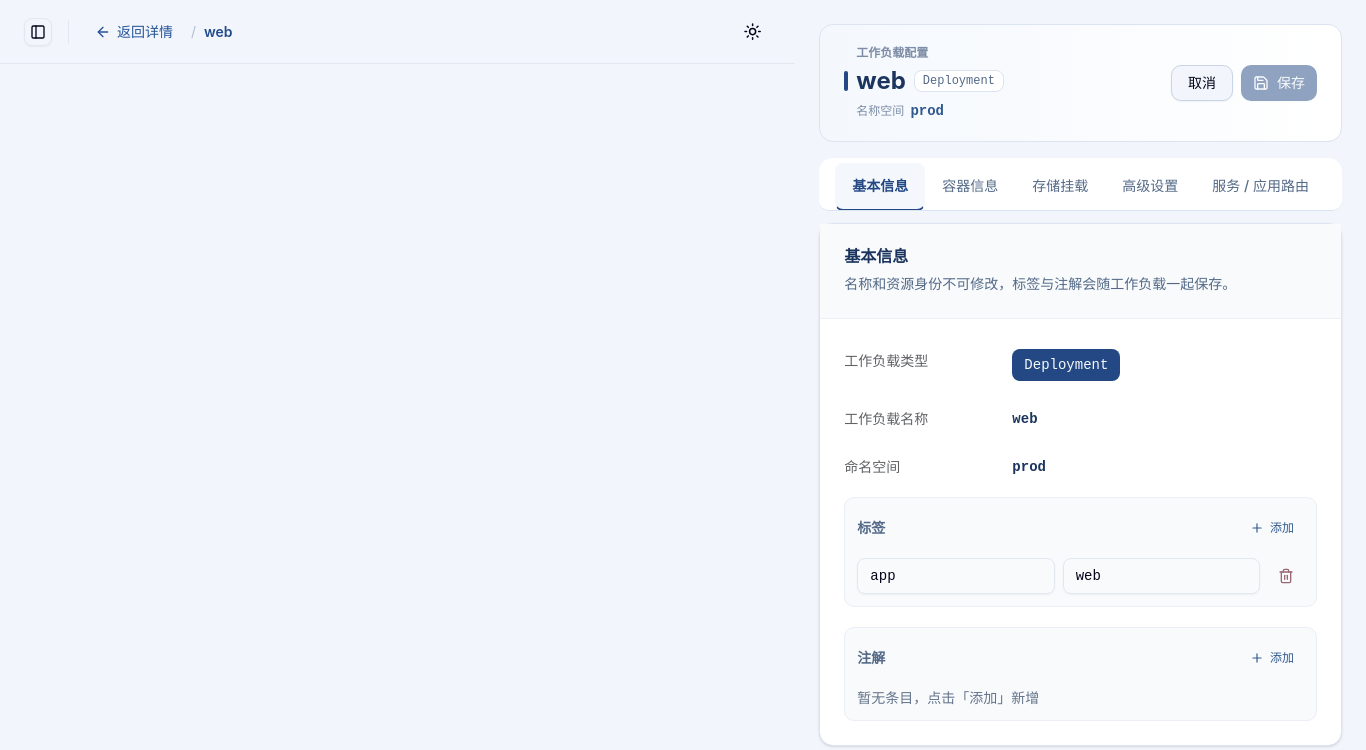
Test: WorkloadEditorPage › renders kind-specific advanced settings for Deployment
Click the tab "高级设置" at (1150,186), box [1105,162,1195,210]
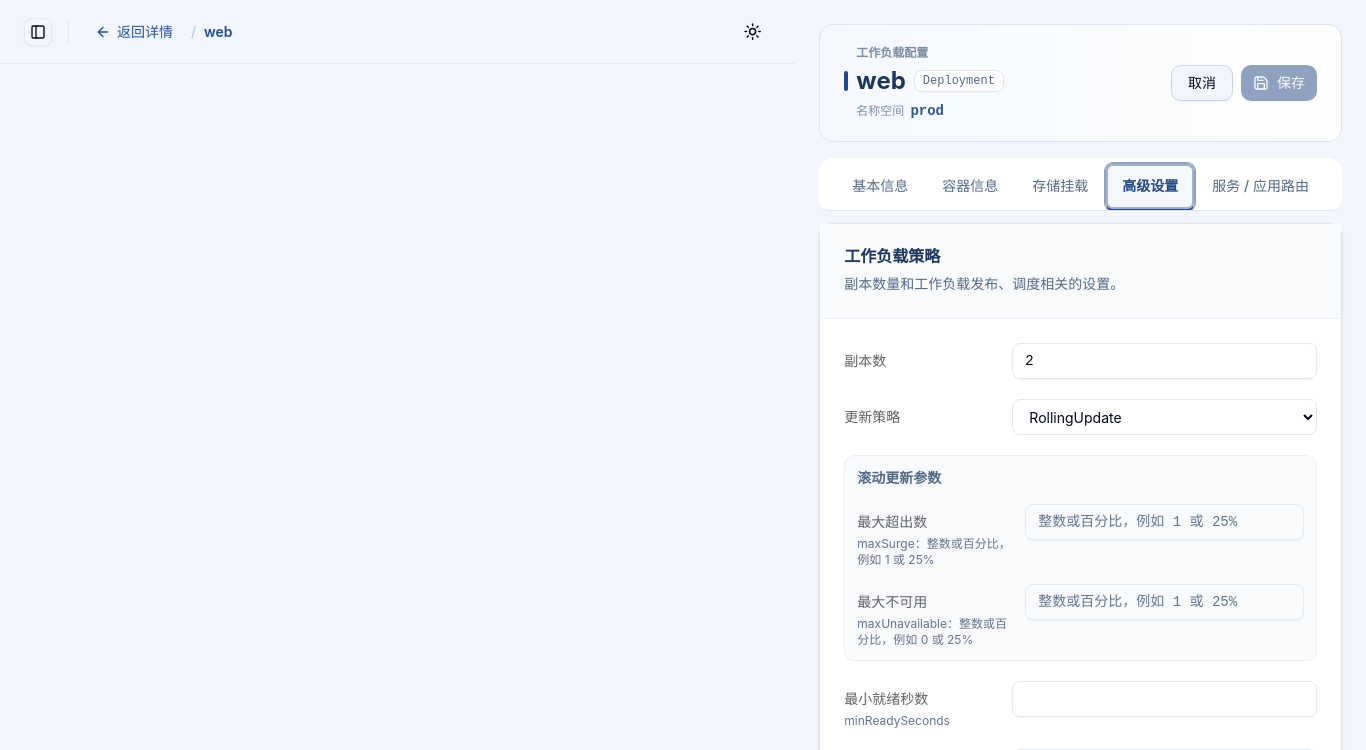
Check: the text "工作负载策略" is shown, box [844,246,940,266]
Check: the number field named "副本数" holds "2", box [1012,343,1317,379]
